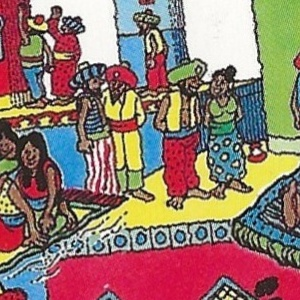Wenda: (19, 118, 35, 163)
Wizard Whitebeard: (132, 108, 168, 192)
